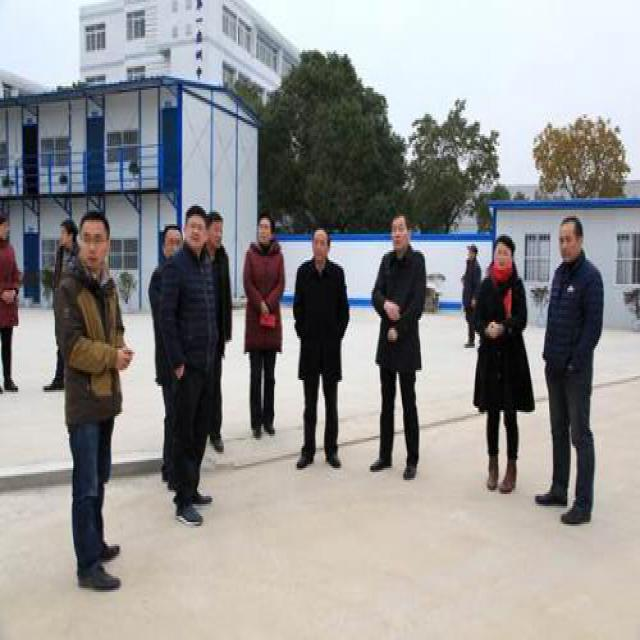head: (76, 203, 115, 271), (554, 209, 588, 265), (180, 203, 210, 255), (489, 231, 519, 275), (386, 207, 412, 253), (202, 209, 226, 255), (306, 223, 331, 267), (161, 219, 183, 265), (254, 205, 275, 251), (56, 217, 75, 251)
person: (46, 201, 145, 600), (150, 201, 224, 536), (536, 206, 611, 533), (469, 236, 540, 511), (367, 209, 435, 493), (293, 223, 361, 477), (239, 211, 293, 449)
